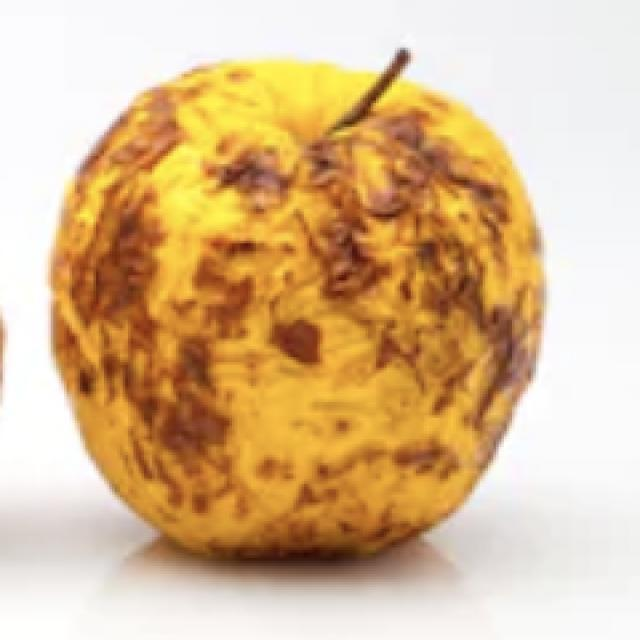Rotten: (34, 46, 554, 562)
